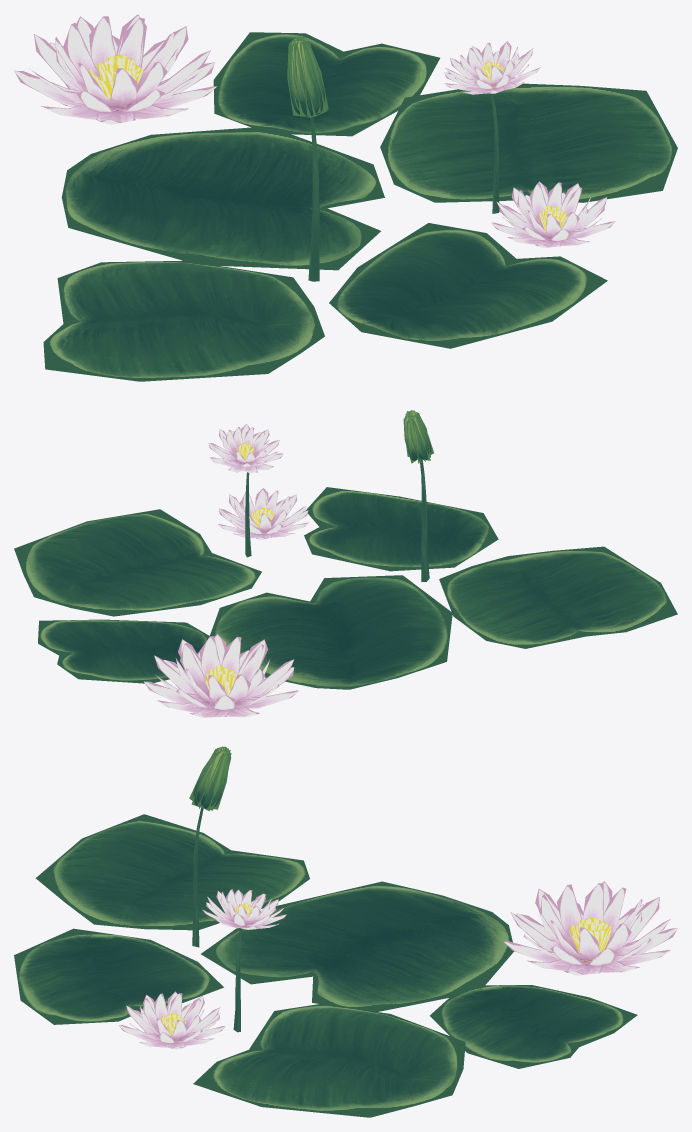
File: SM_Plant_WaterLilies_01.fbx
The picture shows the model from 3 angles, top to bottom: view 1: azimuth 30°, elevation 25°; view 2: azimuth 150°, elevation 25°; view 3: azimuth 270°, elevation 25°; orthographic projection. The views are drawn at different scales.
Visible parts, largest first — view 1: SM_Plant_WaterLilies_01_LOD0; view 2: SM_Plant_WaterLilies_01_LOD0; view 3: SM_Plant_WaterLilies_01_LOD0.
Part boxes in pixels (x1,y1,x2,y2): SM_Plant_WaterLilies_01_LOD0: [14, 14, 677, 381]; SM_Plant_WaterLilies_01_LOD0: [14, 410, 677, 717]; SM_Plant_WaterLilies_01_LOD0: [14, 746, 677, 1117].
Bounding box in the file's own units: 80.71 × 73.9 × 24.63.
1 material, 1 textured.
